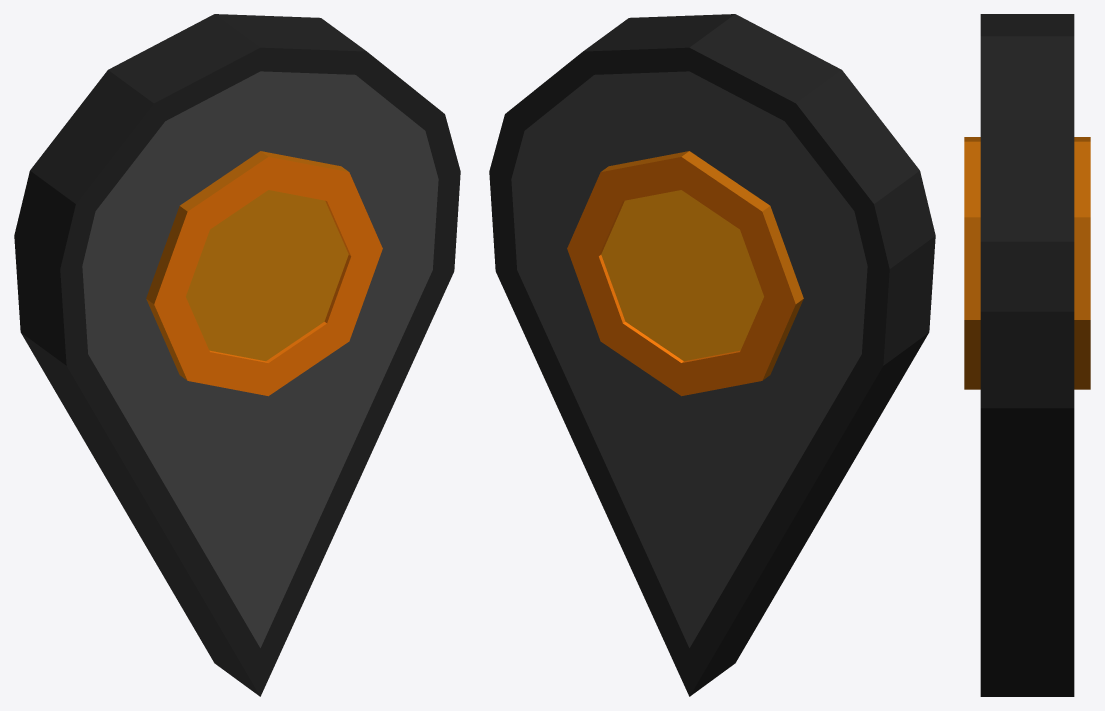
File: pua.glb
The picture shows the model from 3 angles, left to right: view 1: azimuth 30°, elevation 25°; view 2: azimuth 150°, elevation 25°; view 3: azimuth 270°, elevation 25°; orthographic projection.
Visible parts, largest first — view 1: pua; view 2: pua; view 3: pua.
Boxes of the visible parts, x1,y1,x2,y2 form: pua: (14, 14, 460, 696); pua: (489, 14, 935, 696); pua: (964, 14, 1090, 696).
Bounding box in the file's own units: 0.5416 × 0.8392 × 0.1454.
2 materials, 2 textured.
